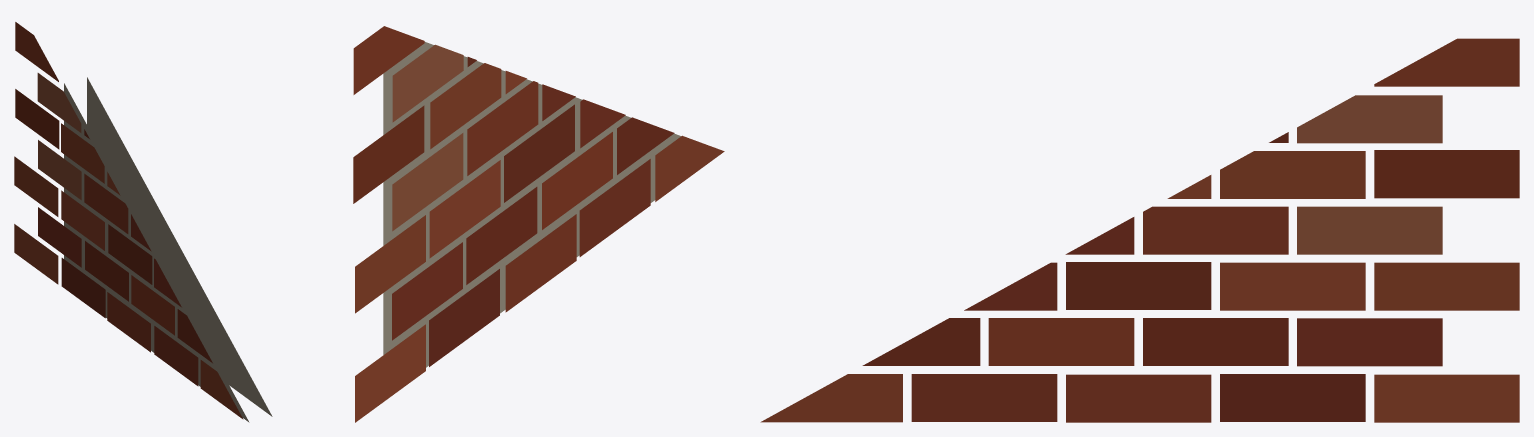
The model's file is wall-brick-gable-r.glb.
The picture shows the model from 3 angles, left to right: view 1: azimuth 30°, elevation 25°; view 2: azimuth 150°, elevation 25°; view 3: azimuth 270°, elevation 25°; orthographic projection. The views are drawn at different scales.
Parts seen in each view (by area): view 1: wall-brick-gable-r; view 2: wall-brick-gable-r; view 3: wall-brick-gable-r.
Part boxes in pixels (box(x1,y1,x2,y2)): wall-brick-gable-r: box(14, 22, 272, 422); wall-brick-gable-r: box(353, 26, 724, 422); wall-brick-gable-r: box(760, 38, 1519, 422).
Bounding box in the file's own units: 0.0999 × 0.693 × 1.24.
